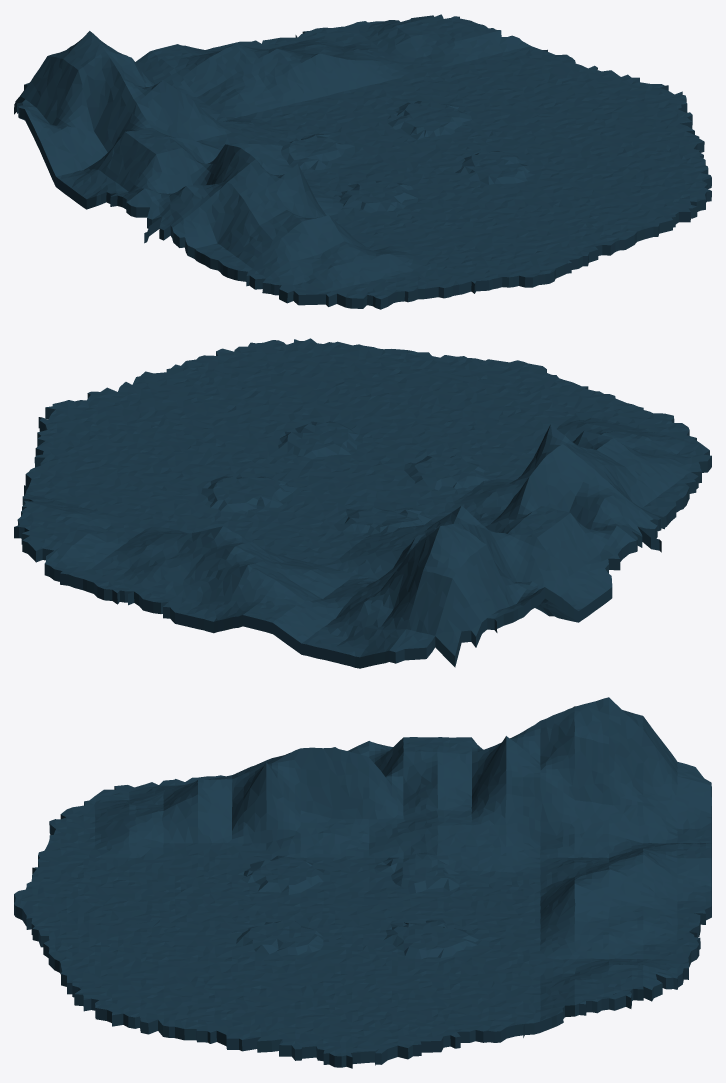
The model's file is NewnewTerrain.glb.
The picture shows the model from 3 angles, top to bottom: view 1: azimuth 30°, elevation 25°; view 2: azimuth 150°, elevation 25°; view 3: azimuth 270°, elevation 25°; orthographic projection. The views are drawn at different scales.
Parts seen in each view (by area): view 1: Plane; view 2: Plane; view 3: Plane.
Boxes of the visible parts, x1,y1,x2,y2 form: Plane: (14,14,711,309); Plane: (14,338,711,668); Plane: (14,697,711,1068).
Size of the model in its own units: 198 by 35.45 by 194.
